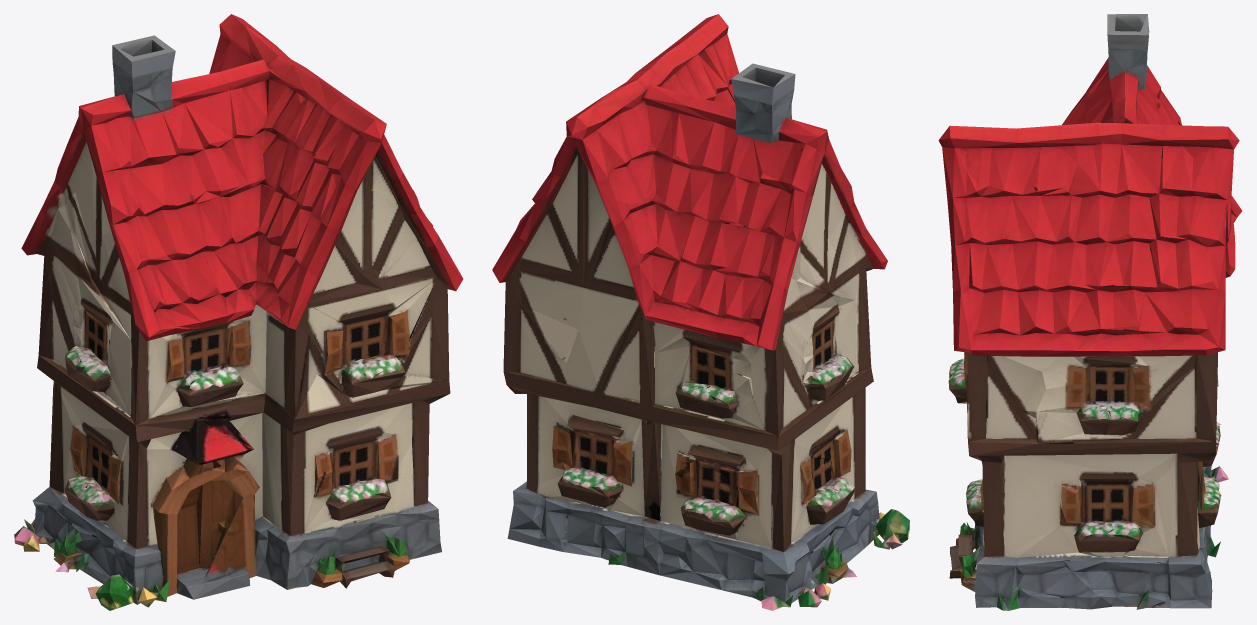
The model's file is house_terra_6_opt4000.glb.
3 renders of one model, left to right at view 1: azimuth 30°, elevation 25°; view 2: azimuth 150°, elevation 25°; view 3: azimuth 270°, elevation 25°, orthographic. The views are drawn at different scales.
Visible parts, largest first — view 1: opt4000; view 2: opt4000; view 3: opt4000.
Part boxes in pixels (<box>): opt4000: <box>14,14,463,610</box>; opt4000: <box>492,14,909,610</box>; opt4000: <box>938,14,1242,610</box>.
Size of the model in its own units: 1.34 by 1.9 by 1.09.
1 material, 1 textured.
